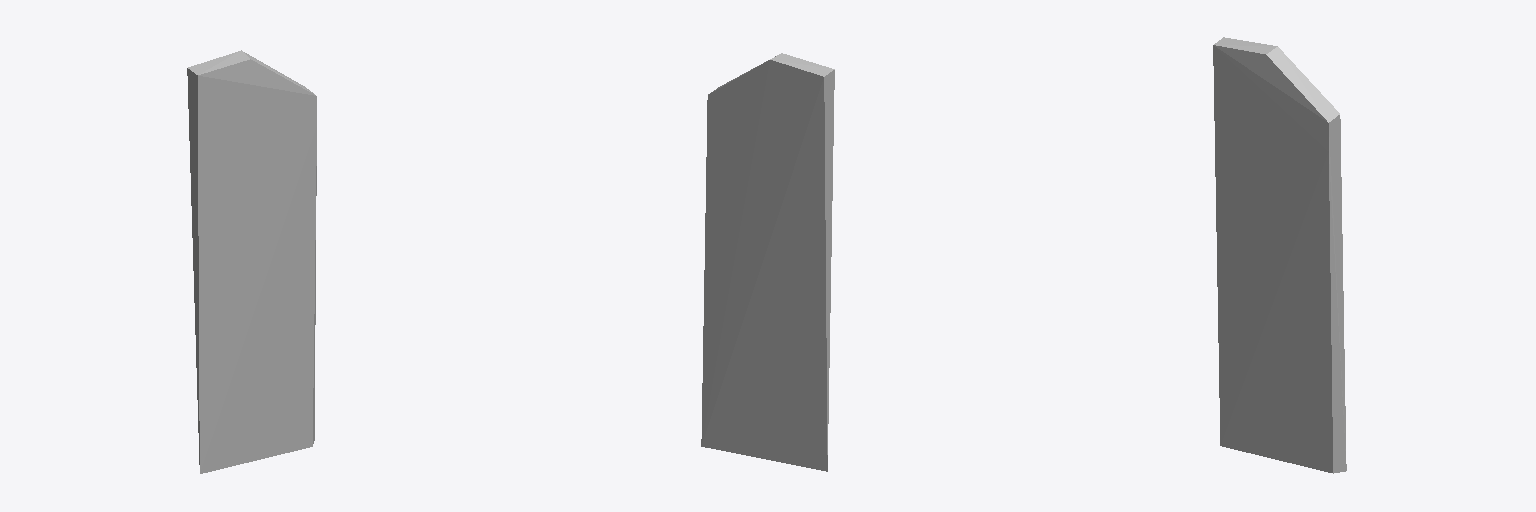
File: raw_model_collision_6.obj
3 views of the same model, side by side, from view 1: azimuth 30°, elevation 25°; view 2: azimuth 150°, elevation 25°; view 3: azimuth 330°, elevation 25° (orthographic).
Size of the model in its own units: 0.2525 by 0.7822 by 0.0436.